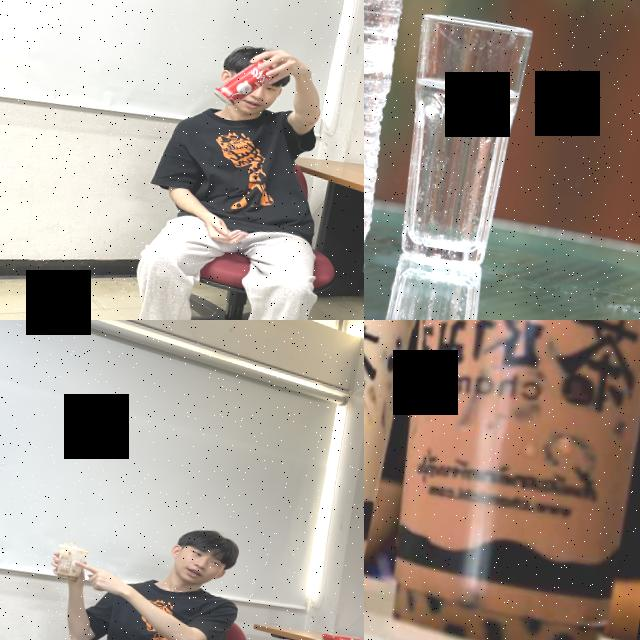bottle: (364, 0, 423, 257)
can: (210, 53, 280, 114)
cup: (364, 320, 640, 640), (364, 320, 433, 609), (52, 541, 92, 586)
